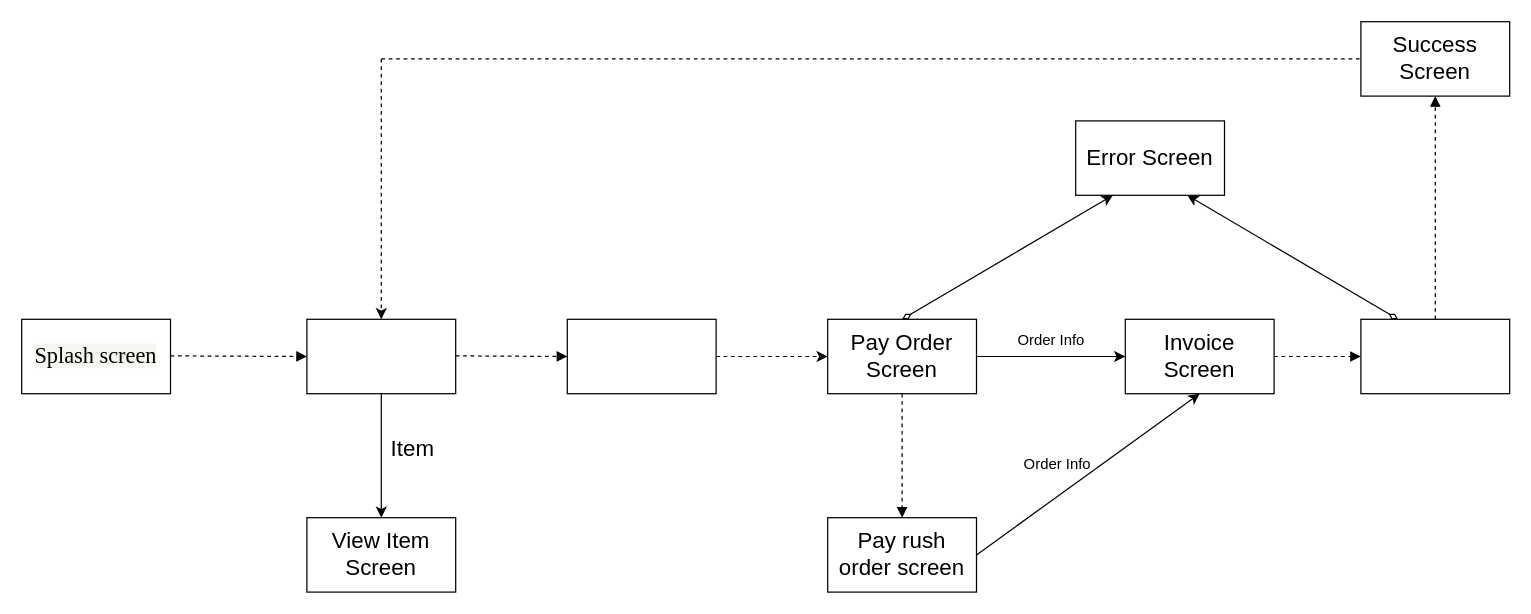
Image size: 1531x614. Some labels were removed from this diagram. The shapes that lost their labels are listed below. From the top down, each one's centre as x and y in pixels, then its label:
At (381,356): "Home Screen".
At (641,356): "View Cart Screen".
At (1435,356): "Payment Screen".
